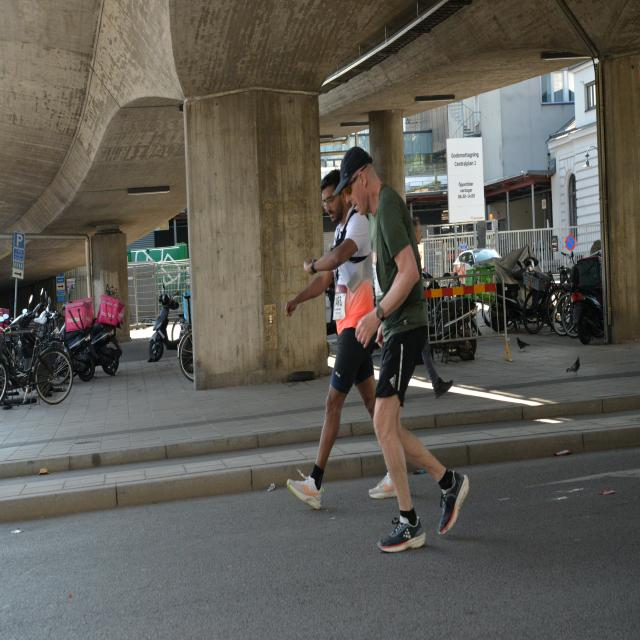runner-detect: (339, 142, 486, 559), (292, 153, 392, 518)
